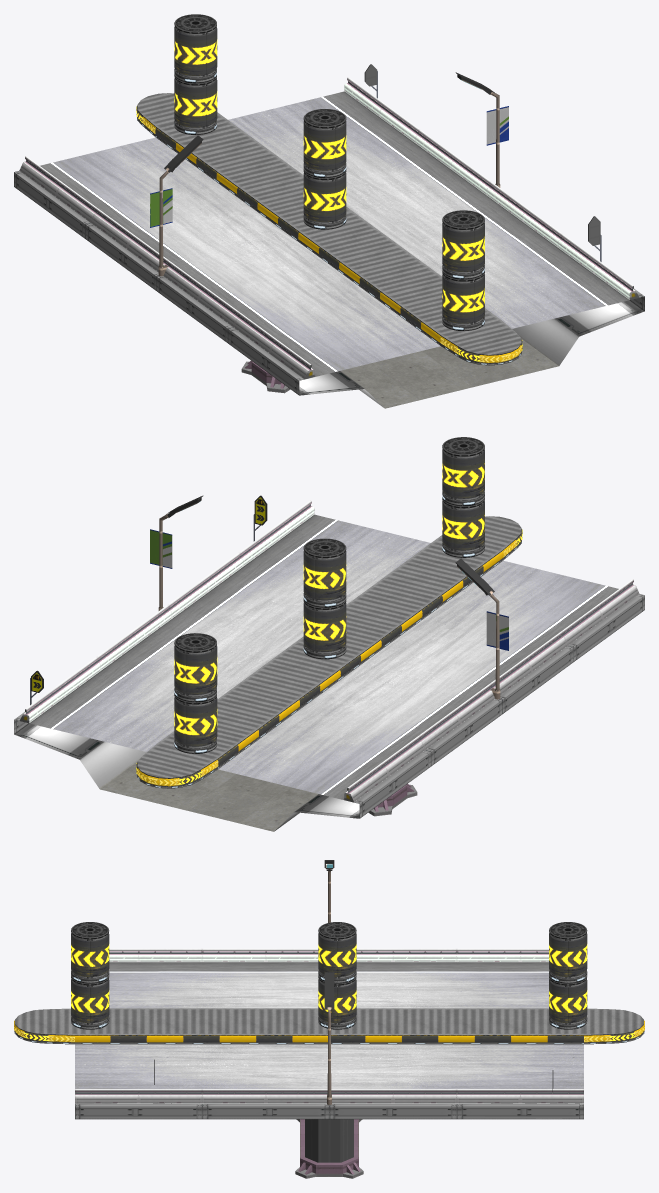
File: T1 - Obstacle.fbx
3 renders of one model, top to bottom at view 1: azimuth 30°, elevation 25°; view 2: azimuth 150°, elevation 25°; view 3: azimuth 270°, elevation 25°, orthographic. The views are drawn at different scales.
Visible parts, largest first — view 1: standard_road, barriermesh, standard_bridge, wall_straight_elevated, barrier_elevated2, cover_3, cover_2, cover, cover_1, cover_4, cover_5, pro_streetlight_banners__1_ (+6 smaller); view 2: standard_road, barriermesh, standard_bridge, wall_straight_elevated, barrier_elevated2, cover_2, cover, cover_1, cover_3, cover_5, cover_4, pro_streetlight_banners__1_ (+6 smaller); view 3: standard_road, barriermesh, standard_bridge, barrier_elevated2, wall_straight_elevated, support_pylon, support_ground, cover_1, cover_4, cover, cover_5, cover_2 (+5 smaller).
Boxes of the visible parts, x1,y1,x2,y2 form: standard_road: (40,91,629,376); barriermesh: (136,93,522,365); standard_bridge: (14,170,644,408); wall_straight_elevated: (19,77,635,379); barrier_elevated2: (25,77,639,379); cover_3: (303,173,346,222); cover_2: (303,121,346,170); cover: (174,78,217,127); cover_1: (174,26,217,75); cover_4: (442,222,484,271); cover_5: (442,274,484,323); pro_streetlight_banners__1_: (150,135,203,276); standard_road: (29,514,618,799); barriermesh: (136,516,522,788); standard_bridge: (14,594,644,831); wall_straight_elevated: (23,506,639,802); barrier_elevated2: (19,500,633,802); cover_2: (303,551,346,600); cover: (174,697,217,746); cover_1: (174,645,217,694); cover_3: (303,602,346,651); cover_5: (442,501,484,550); cover_4: (442,449,484,498); pro_streetlight_banners__1_: (455,558,508,699); standard_road: (75,962,583,1092); barriermesh: (14,1008,644,1044); standard_bridge: (75,1104,583,1119); barrier_elevated2: (75,948,583,1103); wall_straight_elevated: (75,948,583,1103); support_pylon: (305,1119,353,1162); support_ground: (295,1119,363,1178); cover_1: (549,933,587,976); cover_4: (71,933,109,976); cover: (549,979,587,1023); cover_5: (71,979,109,1023); cover_2: (318,933,356,976).
Bounding box in the file's own units: 4648 × 3191 × 7933.
